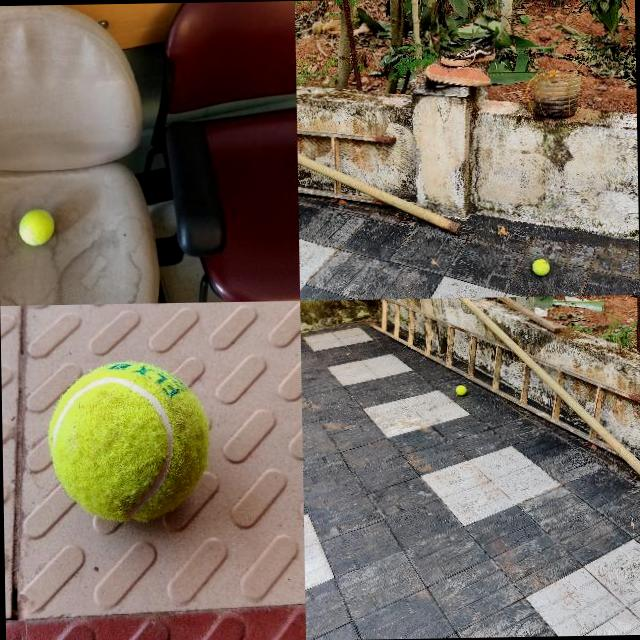Tennis Ball: (46, 361, 210, 523), (17, 208, 54, 246), (531, 258, 549, 275), (455, 384, 466, 394)
